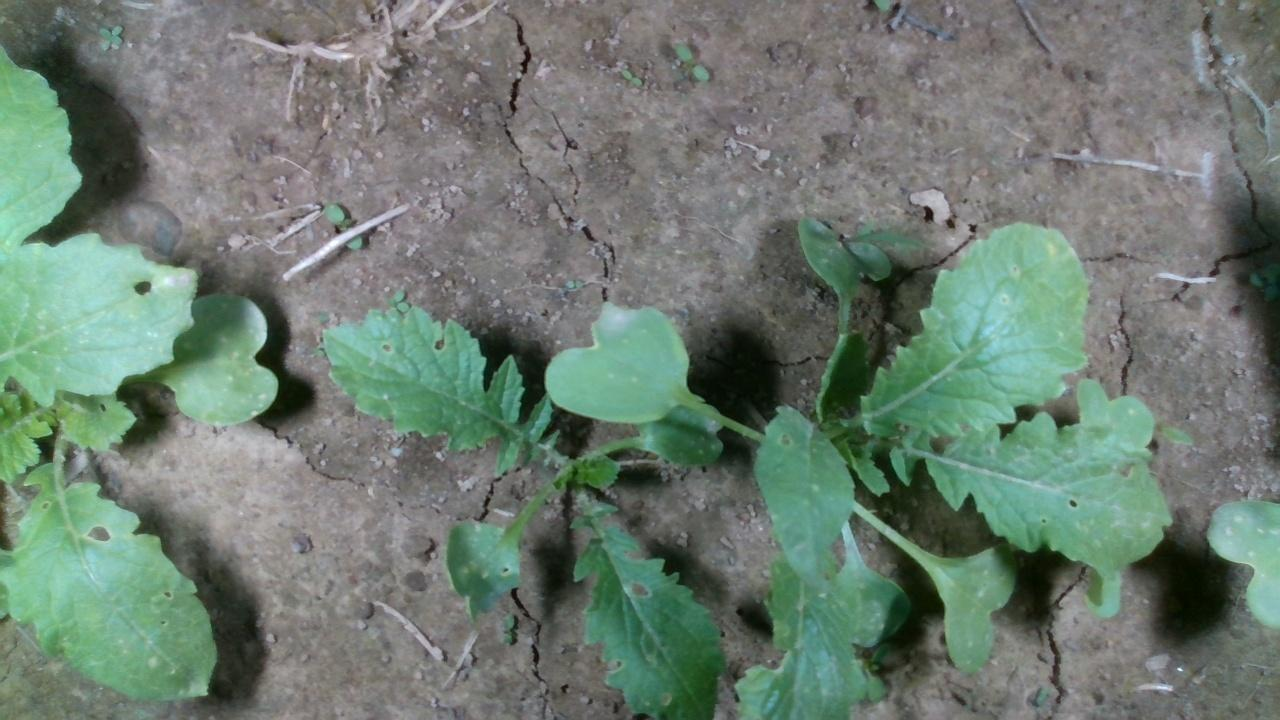weed: (324, 203, 363, 254), (670, 41, 709, 79), (619, 67, 642, 86)
